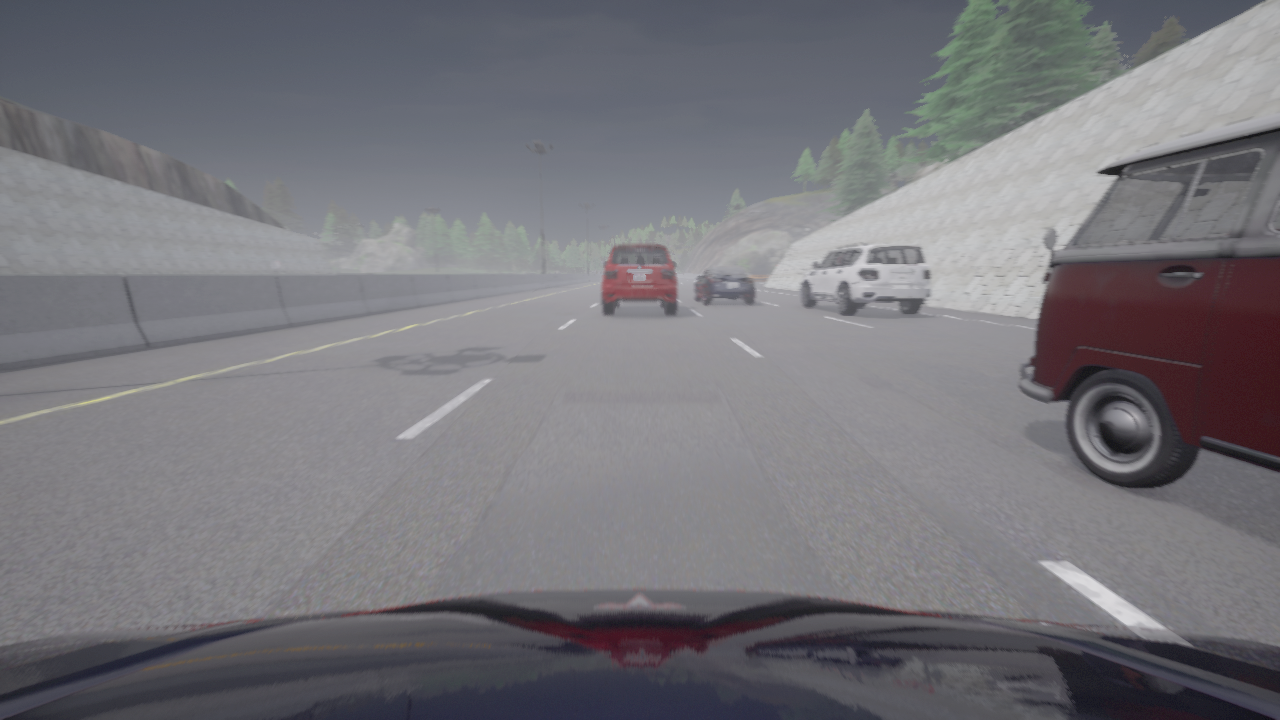cyclist: (0, 588, 1279, 719), (1019, 112, 1279, 488), (801, 243, 931, 314), (602, 244, 676, 314), (695, 267, 754, 304)
